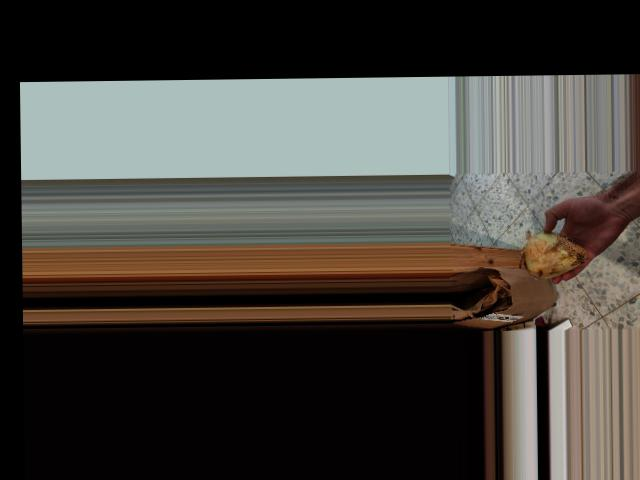onion: (515, 222, 595, 282)
